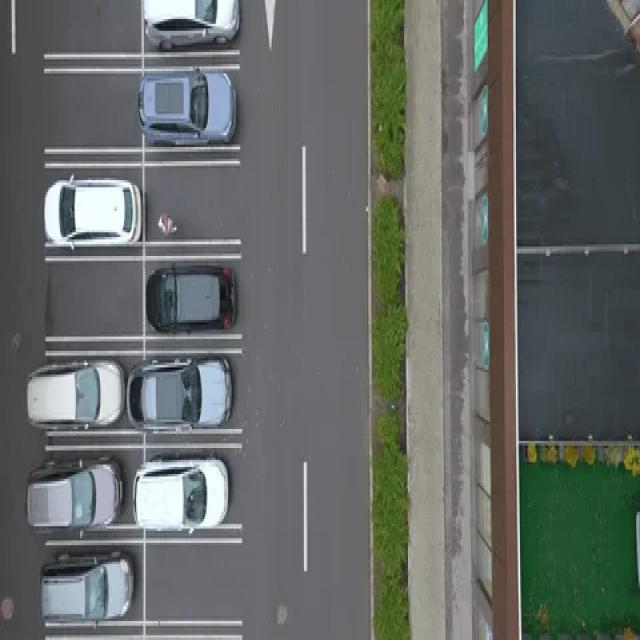libre: (41, 3, 140, 155), (143, 545, 244, 637), (146, 163, 251, 248), (41, 267, 142, 329)
ocupado: (32, 253, 239, 635), (41, 158, 145, 256)
